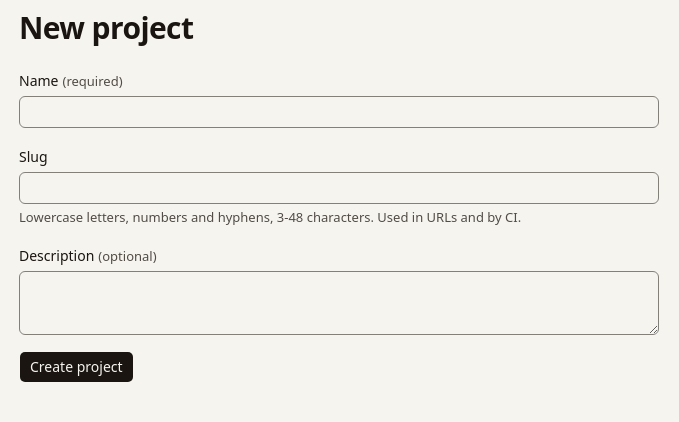
it: NewProject › shows a rejected slug under the slug field
The image size is (679, 422).
Type "Acme API" into the field labelled "Name" at (339, 112), box [19, 96, 659, 128]
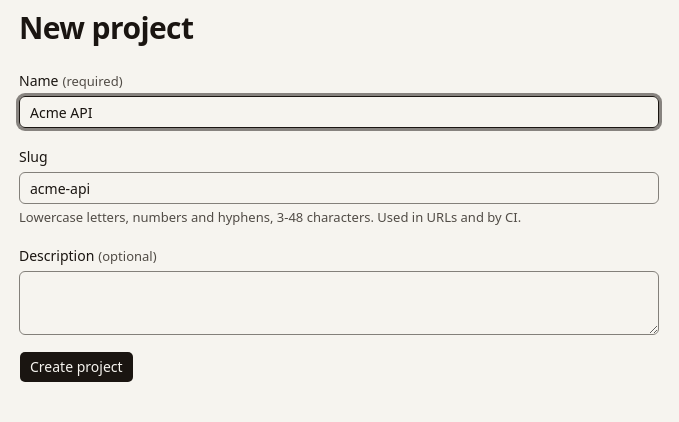
Click the button "Create project" at (76, 367), box [19, 351, 134, 383]
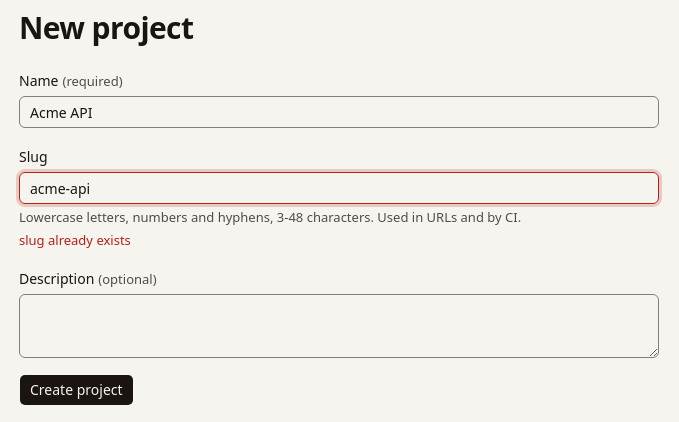
Now the message reads "slug already exists", box [19, 231, 131, 249]
